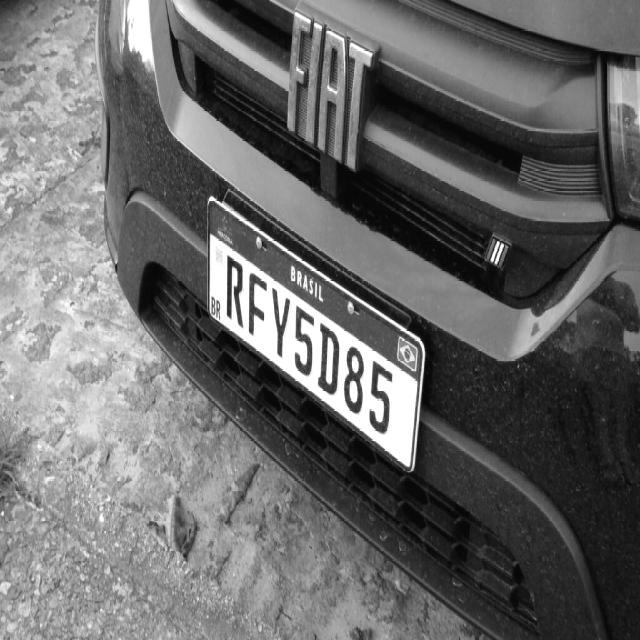placa_mercosul: (208, 200, 424, 470)
